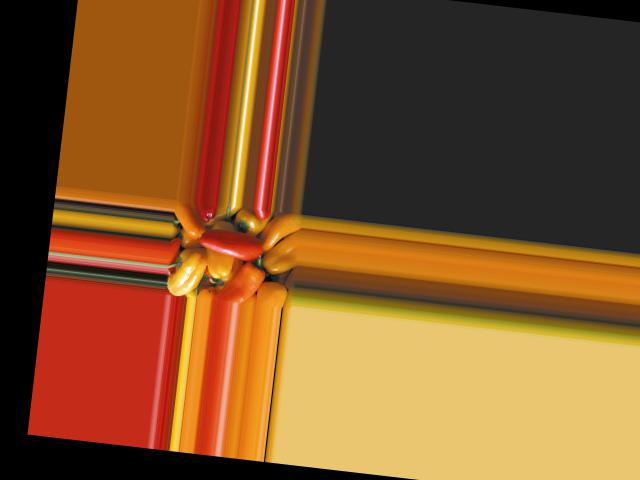bell_pepper: (165, 249, 210, 297)
